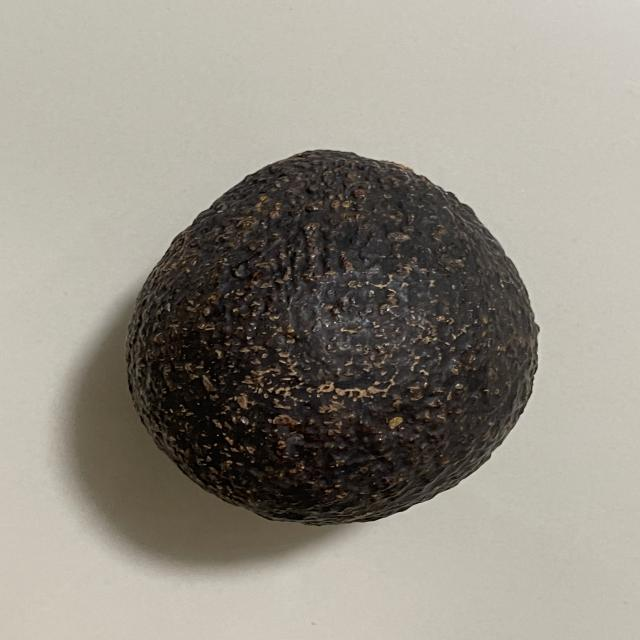Level3: (112, 140, 550, 533)
